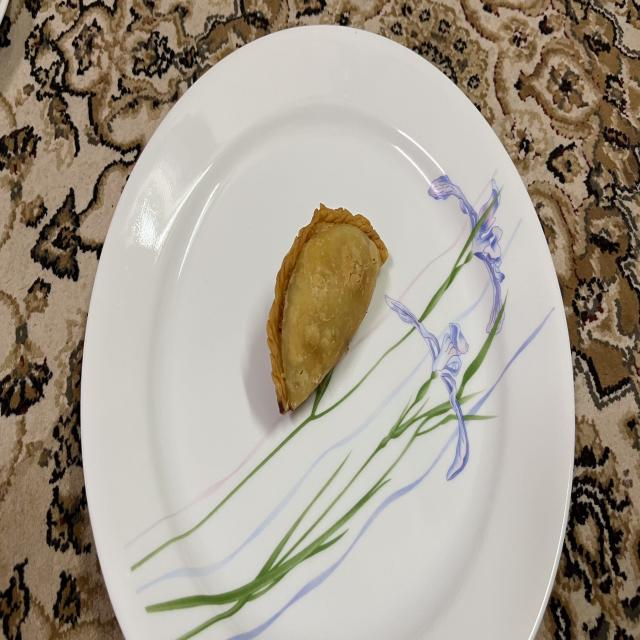karipap: (266, 204, 389, 413)
